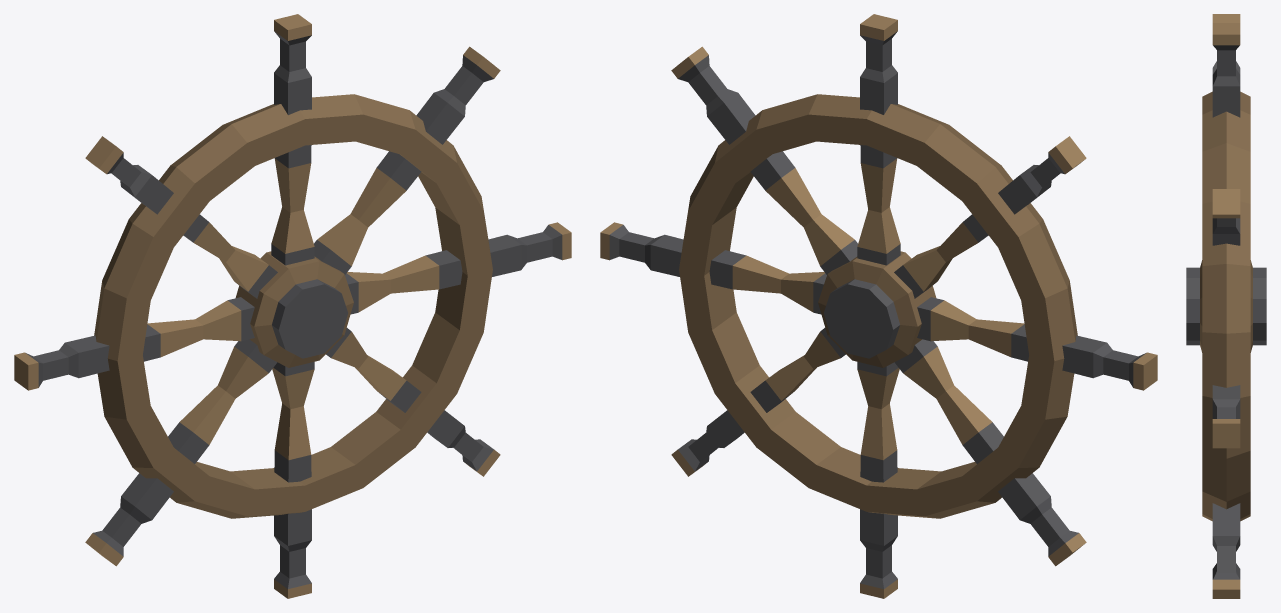
The model's file is SM_Prop_ShipWheel_01.glb.
3 renders of one model, left to right at view 1: azimuth 30°, elevation 25°; view 2: azimuth 150°, elevation 25°; view 3: azimuth 270°, elevation 25°, orthographic. The views are drawn at different scales.
Visible parts, largest first — view 1: SM_Prop_ShipWheel_01_part00; view 2: SM_Prop_ShipWheel_01_part00; view 3: SM_Prop_ShipWheel_01_part00.
Part boxes in pixels (<box>): SM_Prop_ShipWheel_01_part00: <box>14,14,571,598</box>; SM_Prop_ShipWheel_01_part00: <box>600,14,1157,598</box>; SM_Prop_ShipWheel_01_part00: <box>1186,14,1266,598</box>.
Bounding box in the file's own units: 1.16 × 1.16 × 0.1514.
1 material, 1 textured.
